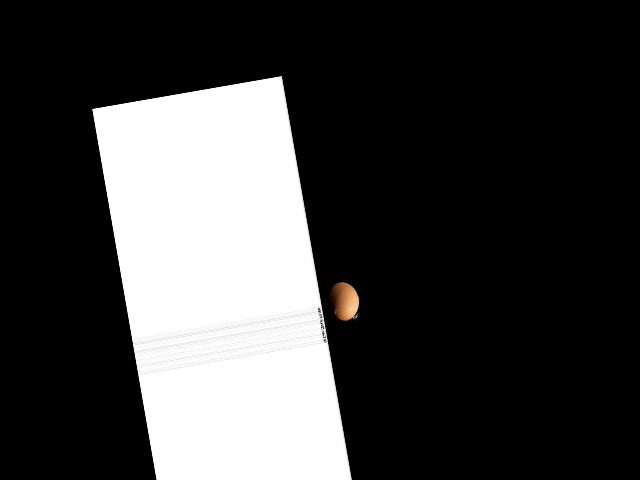egg: (324, 279, 361, 322)
